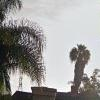Palm tree: (2, 3, 48, 91)
